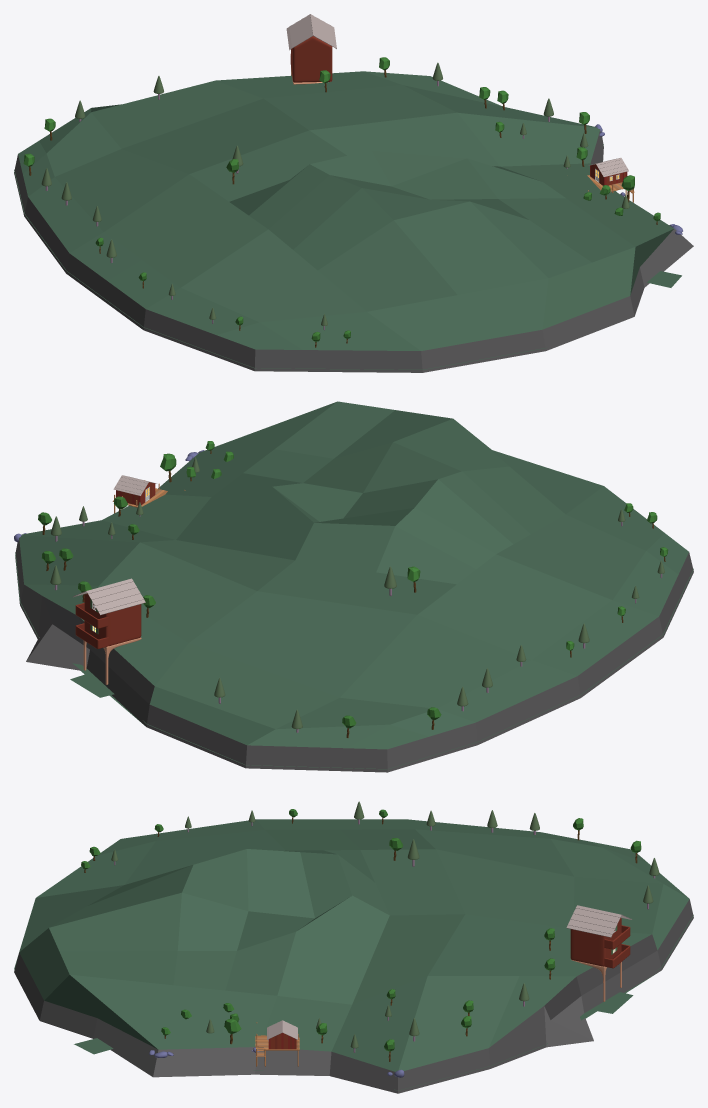
The model's file is island1.glb.
3 renders of one model, top to bottom at view 1: azimuth 30°, elevation 25°; view 2: azimuth 150°, elevation 25°; view 3: azimuth 270°, elevation 25°, orthographic. The views are drawn at different scales.
Visible parts, largest first — view 1: island1, alpine house.001, island1__hit, House; view 2: island1, alpine house.001, island1__hit, House; view 3: island1, alpine house.001, island1__hit, House.
Boxes of the visible parts, x1,y1,x2,y2 form: island1: (14,71,693,372); alpine house.001: (286,14,336,84); island1__hit: (14,144,681,369); House: (588,158,628,185); island1: (15,401,693,772); alpine house.001: (72,578,145,684); island1__hit: (15,552,693,769); House: (113,475,156,505); island1: (14,819,693,1093); alpine house.001: (566,905,632,1001); island1__hit: (14,915,693,1090); House: (267,1020,297,1049).
Size of the model in its own units: 97.73 by 16.41 by 109.
